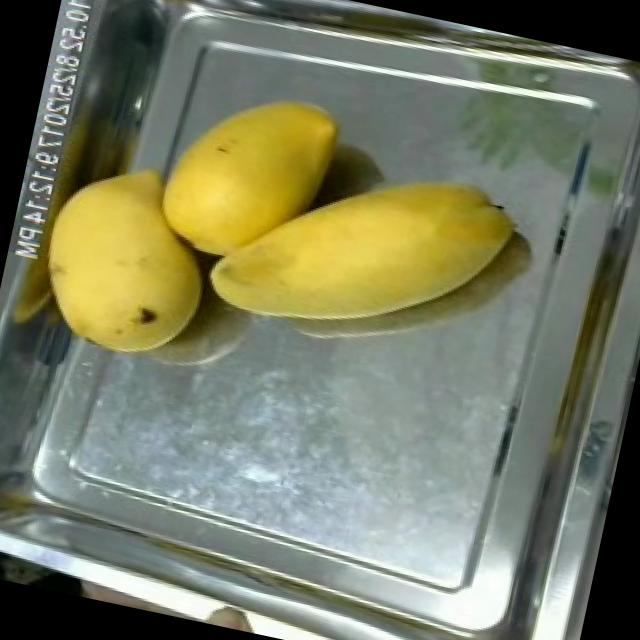fruit: (188, 122, 538, 372), (18, 138, 242, 384), (143, 61, 357, 286)
